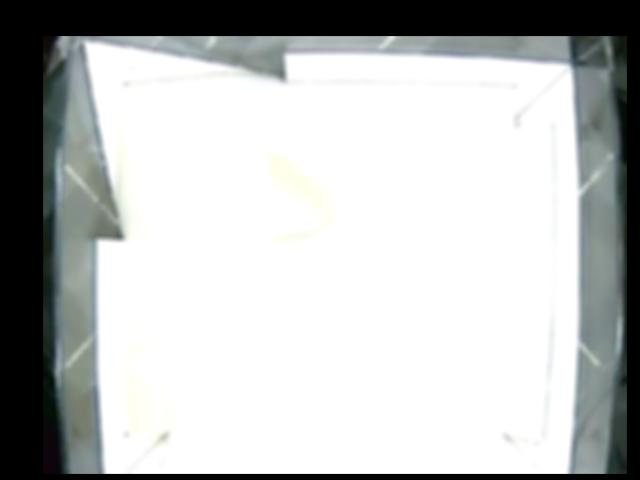Mooli: (260, 153, 333, 239)
